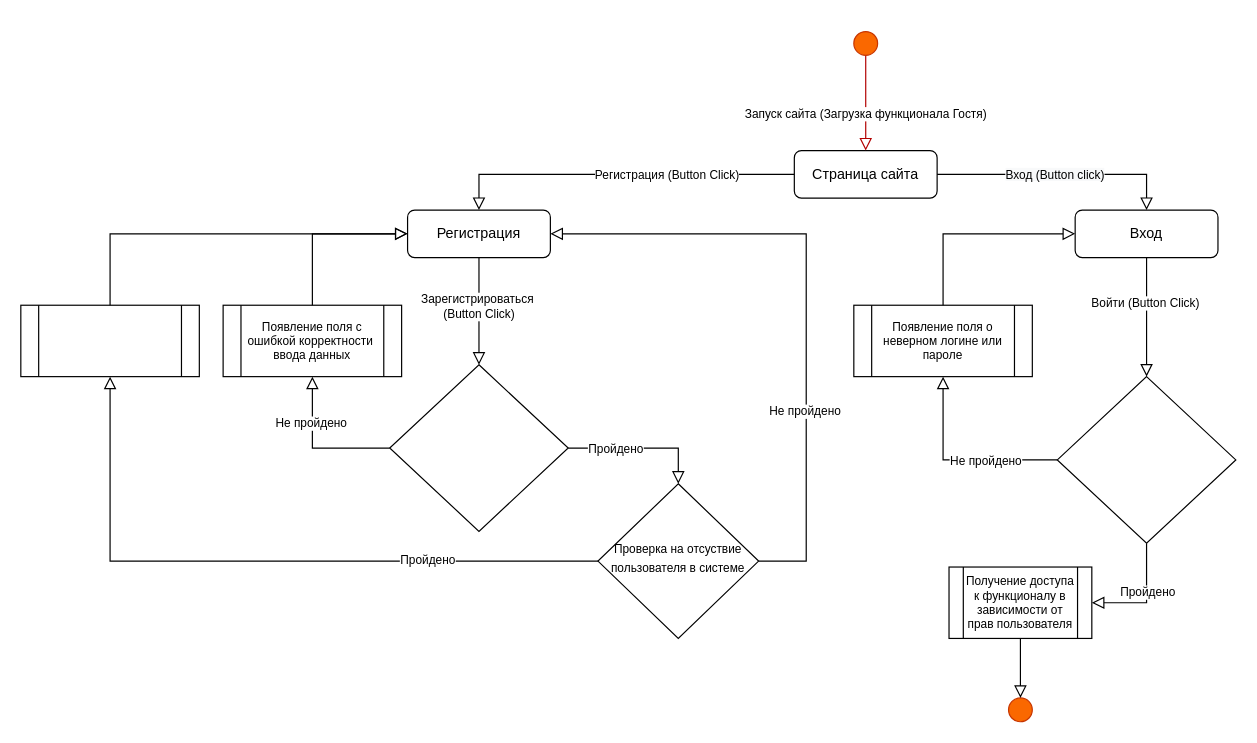
The diagram is 1257 pixels wide and 743 high, and some of its shapes have lost their labels. The centre of each missing label's shape, as x and y in pixels:
"Появление поля с сообщением об успешной регистрации" goes at [109,340].
"Проверка на корректность заполнения полей" goes at [478,447].
"Проверка правильности ввода пользовательских данных" goes at [1146,459].
